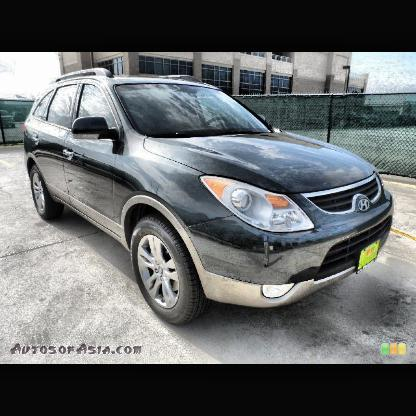Hyundai Veracruz SUV 2012: (24, 70, 395, 326)
